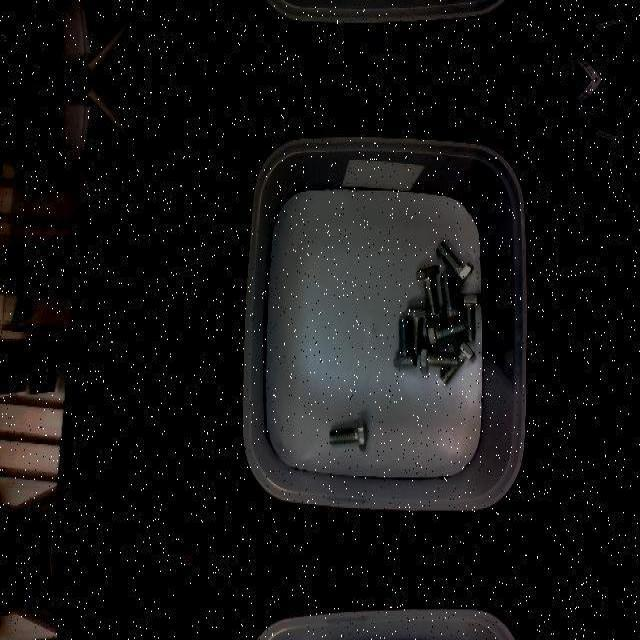screw: (436, 241, 474, 287), (426, 320, 467, 352), (329, 418, 367, 452), (456, 293, 481, 343), (439, 273, 464, 323), (415, 265, 439, 317), (419, 342, 457, 374), (393, 317, 417, 367), (405, 307, 429, 355)
